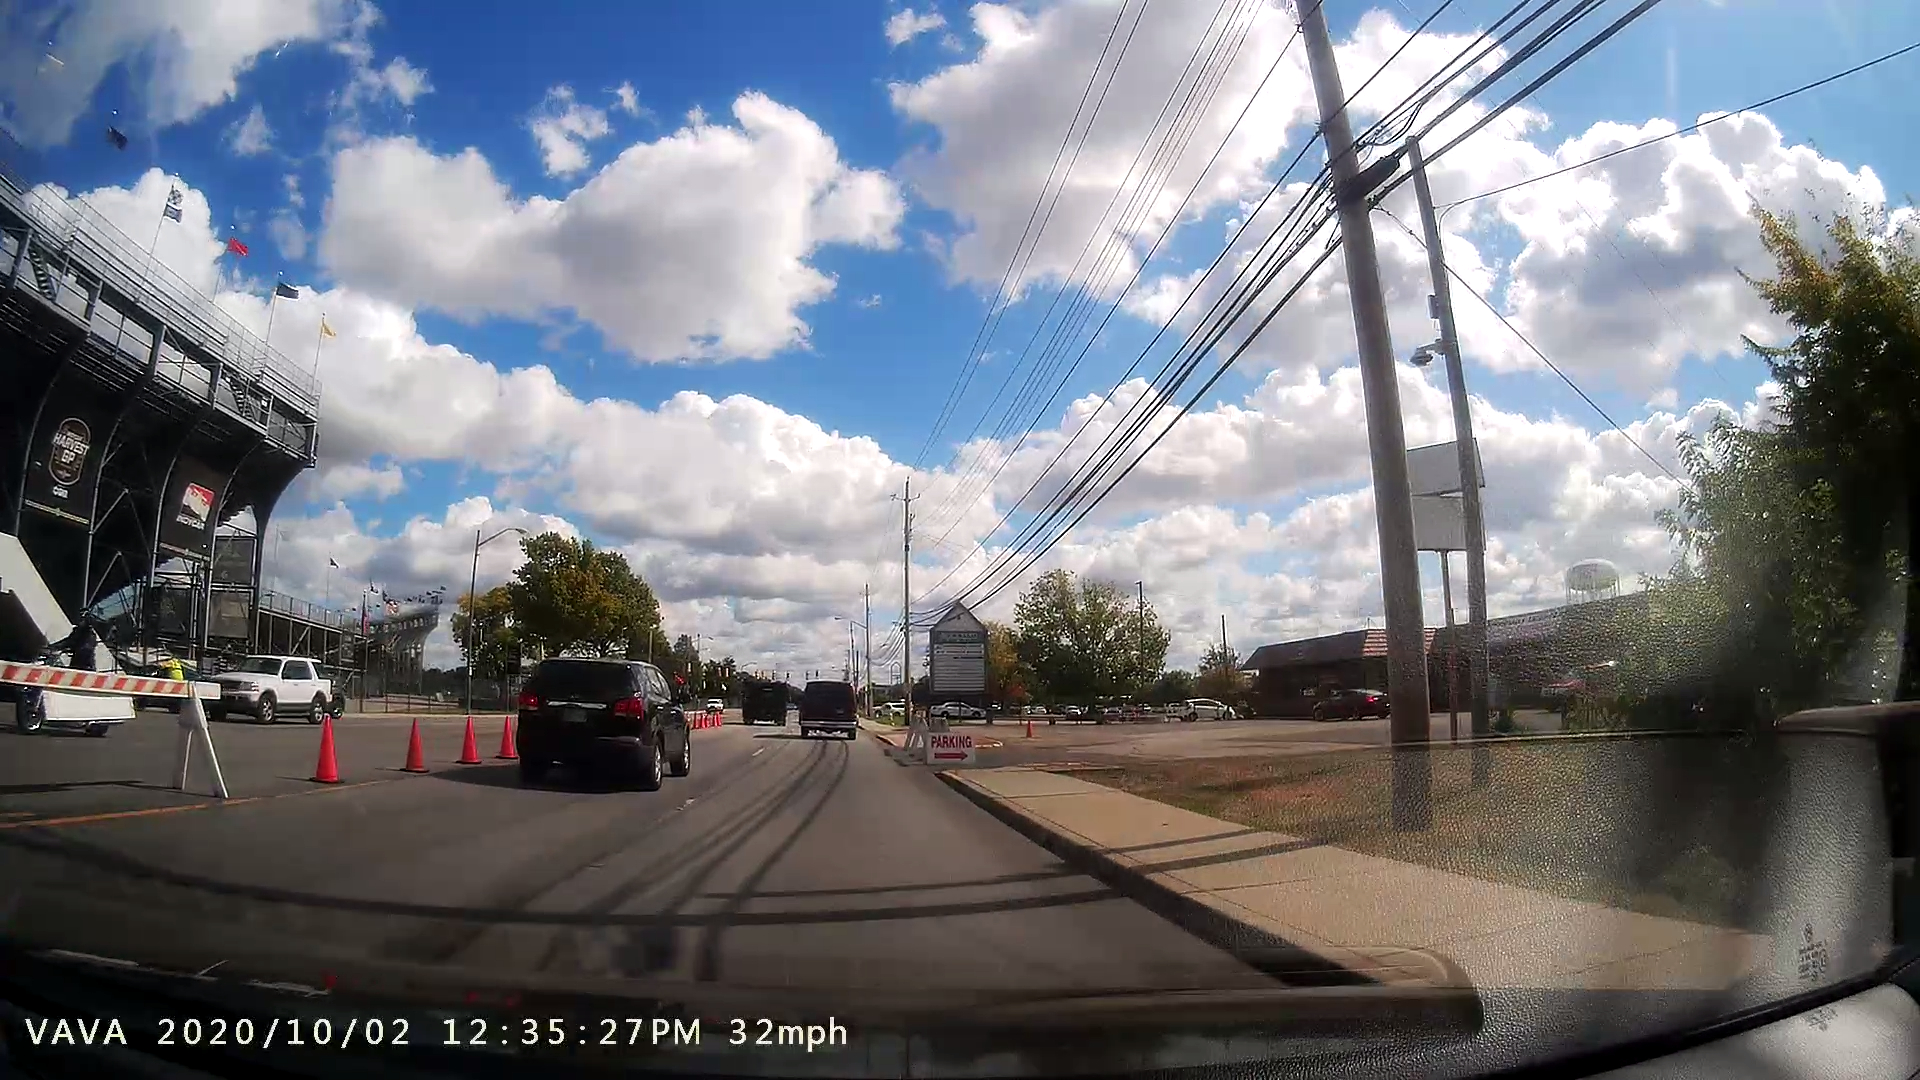const_cone: (303, 709, 347, 790), (394, 711, 430, 783), (456, 713, 477, 777), (498, 712, 518, 771)
